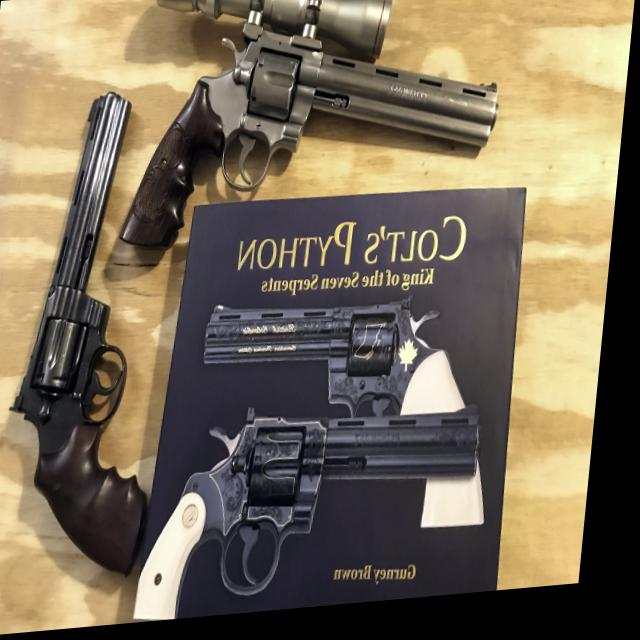handgun: (116, 0, 522, 284), (0, 72, 191, 599), (141, 401, 496, 627)
